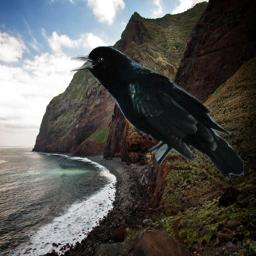Crow: (70, 46, 244, 185)
